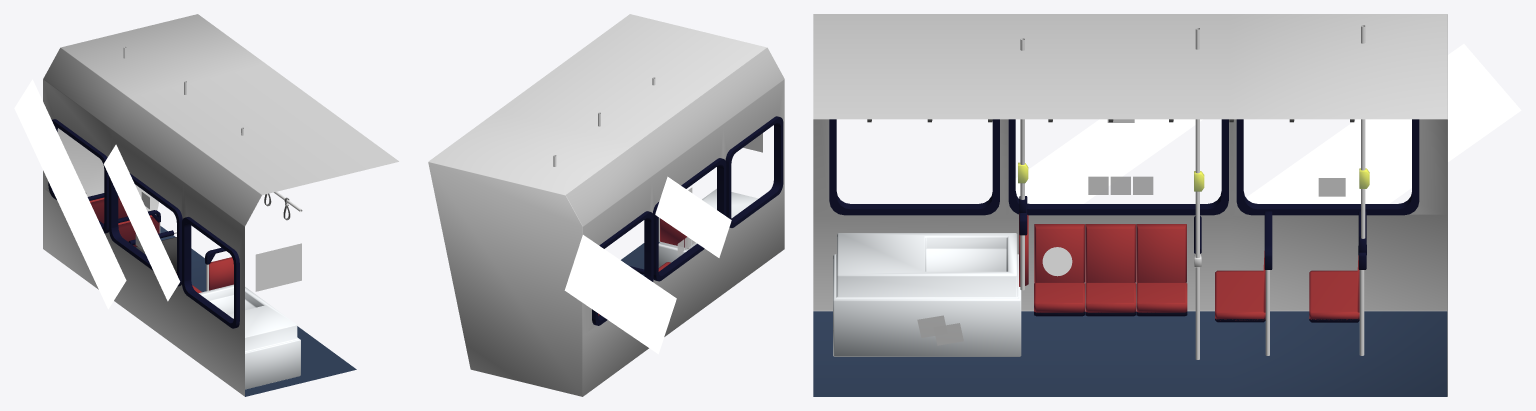
Rendered from bus.glb.
3 renders of one model, left to right at view 1: azimuth 30°, elevation 25°; view 2: azimuth 150°, elevation 25°; view 3: azimuth 270°, elevation 25°, orthographic. The views are drawn at different scales.
Visible parts, largest first — view 1: main, Plane.007, luggage area, Plane.006, Plane.005, signs.007, Plane.003, Plane.004, middle chairs.002, middle chairs.006, middle chairs.004, divider; view 2: main, Plane.007, Plane.006, Plane.005, Plane.003, Plane.004, luggage area, middle chairs.002; view 3: main, luggage area, Plane.007, middle chairs.001, Plane.006, middle chairs, Plane.003, Plane.004, Plane.005, middle chairs.005, middle chairs.003, signs (+3 smaller).
Boxes of the visible parts, <box> form: main: <box>43,14,398,396</box>; Plane.007: <box>14,79,126,309</box>; luggage area: <box>198,284,300,389</box>; Plane.006: <box>103,144,180,301</box>; Plane.005: <box>182,217,239,328</box>; signs.007: <box>255,243,301,291</box>; Plane.003: <box>109,173,182,286</box>; Plane.004: <box>48,119,109,233</box>; middle chairs.002: <box>209,257,233,290</box>; middle chairs.006: <box>89,196,127,223</box>; middle chairs.004: <box>118,215,159,246</box>; divider: <box>135,237,176,273</box>; main: <box>428,14,784,396</box>; Plane.007: <box>564,235,676,354</box>; Plane.006: <box>655,176,731,257</box>; Plane.005: <box>725,116,783,227</box>; Plane.003: <box>653,158,726,281</box>; Plane.004: <box>592,211,653,325</box>; luggage area: <box>658,188,758,267</box>; middle chairs.002: <box>660,218,686,247</box>; main: <box>813,14,1447,396</box>; luggage area: <box>833,233,1021,356</box>; Plane.007: <box>1246,44,1521,203</box>; middle chairs.001: <box>1034,224,1186,282</box>; Plane.006: <box>1015,119,1202,203</box>; middle chairs: <box>1034,282,1187,312</box>; Plane.003: <box>1008,119,1228,215</box>; Plane.004: <box>1236,119,1419,215</box>; Plane.005: <box>829,119,999,215</box>; middle chairs.005: <box>1309,270,1359,319</box>; middle chairs.003: <box>1215,270,1265,320</box>; signs: <box>1088,176,1153,194</box>.
Size of the model in its own units: 2.86 by 3.71 by 6.96.
